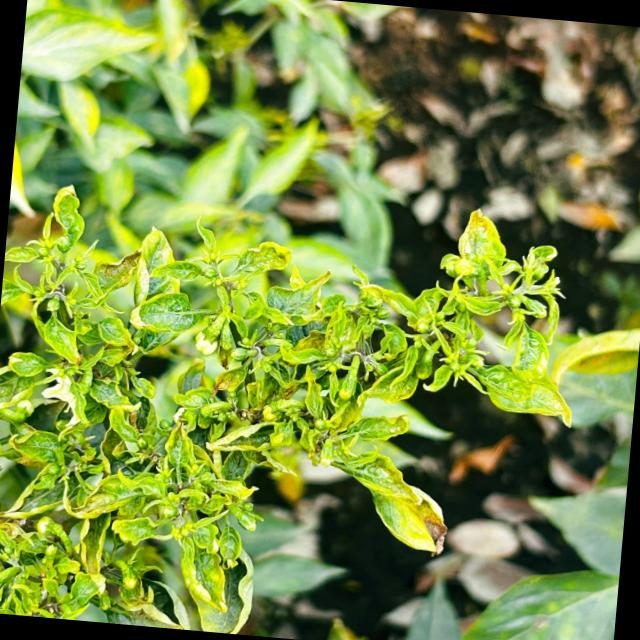Chilli_Leaf_Curl: (0, 164, 591, 640)
